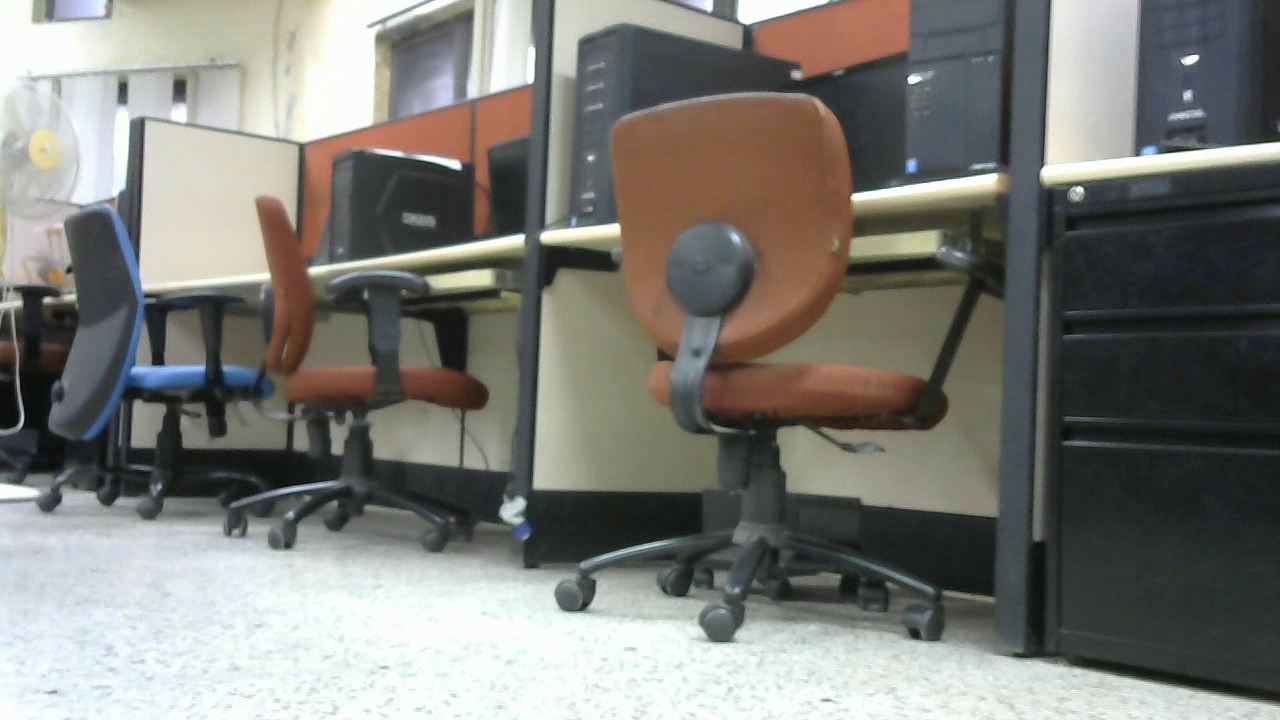chair: (555, 91, 1001, 653), (220, 191, 495, 569), (40, 200, 273, 508)
